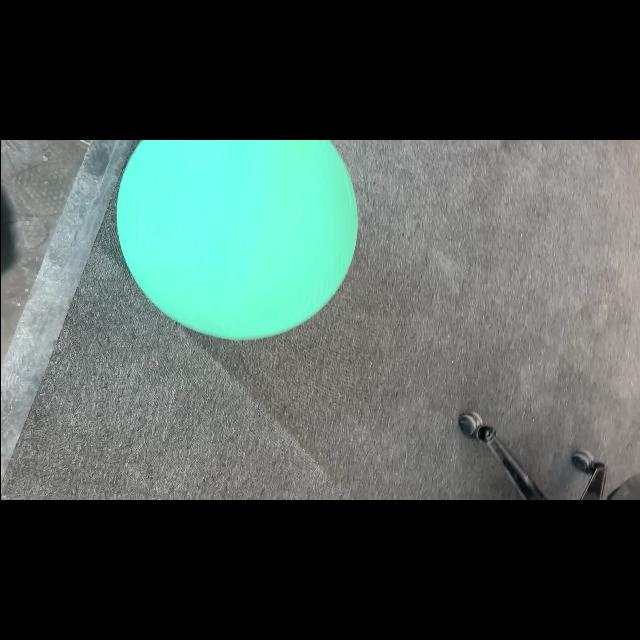ALGAE: (115, 140, 358, 340)
